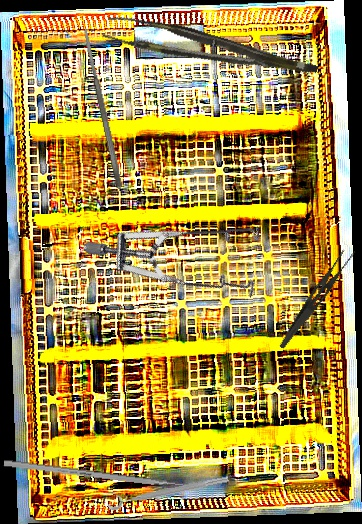Dressing Forceps: (278, 243, 358, 356)
Fixation Ring: (105, 466, 230, 512)
Pusher: (3, 459, 209, 492)
Spatula Surgical: (81, 26, 124, 190)
Speculum: (80, 148, 288, 348)
Tissue Forceps: (102, 3, 319, 100)
